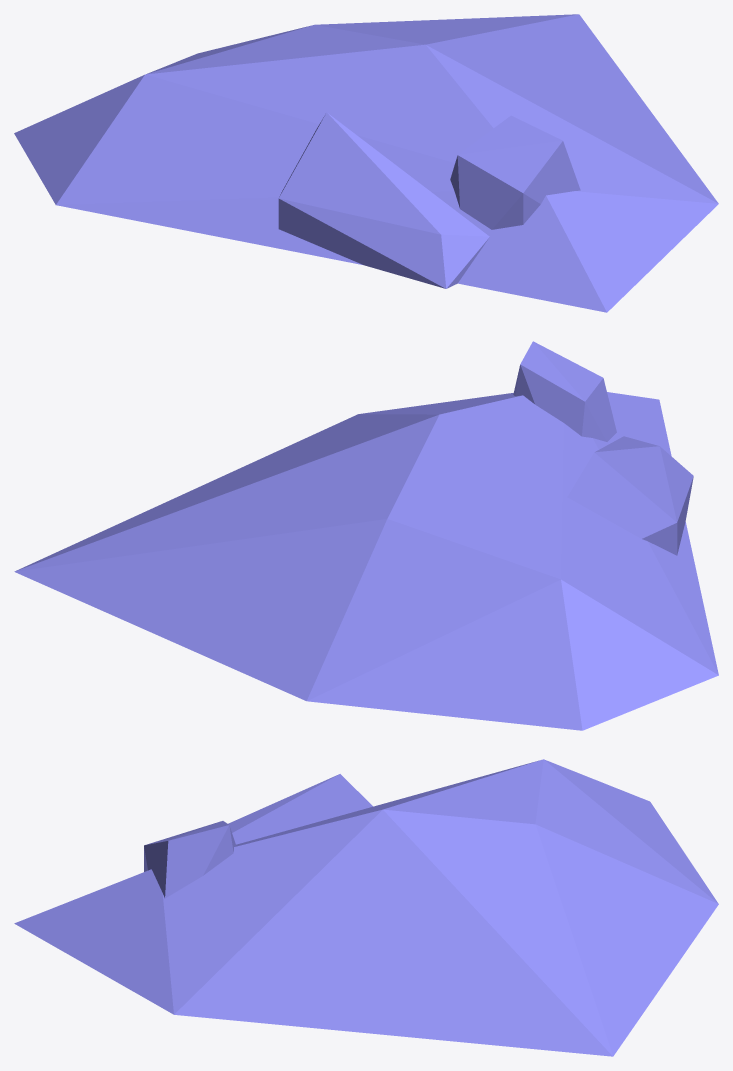
The model's file is Pile_03_Collider_01.FBX.
3 views of the same model, one above another, from view 1: azimuth 30°, elevation 25°; view 2: azimuth 150°, elevation 25°; view 3: azimuth 270°, elevation 25° (orthographic). The views are drawn at different scales.
Visible parts, largest first — view 1: COLLIDER1, COLLIDER2, COLLIDER3; view 2: COLLIDER1, COLLIDER2, COLLIDER3; view 3: COLLIDER1, COLLIDER2, COLLIDER3.
Boxes of the visible parts, x1,y1,x2,y2 form: COLLIDER1: (14, 14, 718, 312); COLLIDER2: (278, 112, 489, 288); COLLIDER3: (450, 115, 580, 229); COLLIDER1: (14, 392, 718, 730); COLLIDER2: (567, 436, 693, 555); COLLIDER3: (513, 341, 616, 441); COLLIDER1: (14, 759, 718, 1056); COLLIDER2: (228, 774, 372, 844); COLLIDER3: (144, 821, 236, 898).
Bounding box in the file's own units: 131 × 26.54 × 142.
